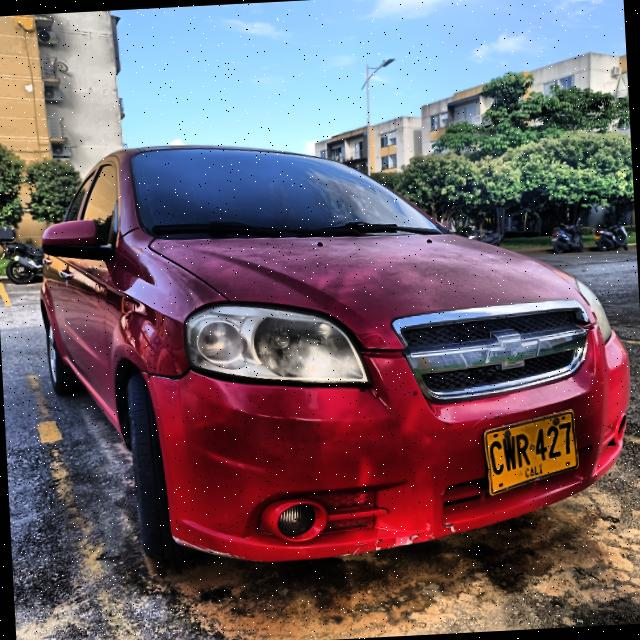plate: (485, 410, 578, 495)
